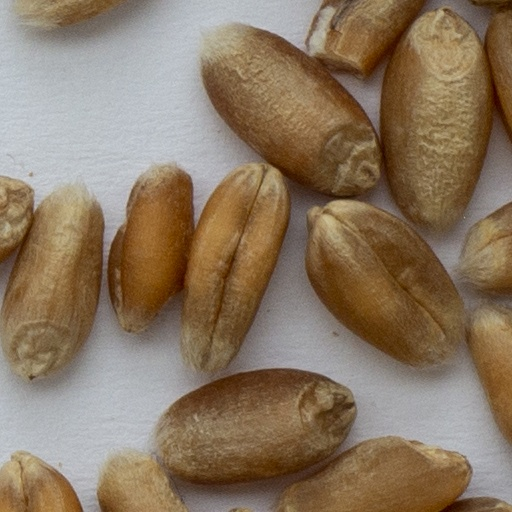Wheat-grain-damaged-poly: (307, 0, 427, 82)
